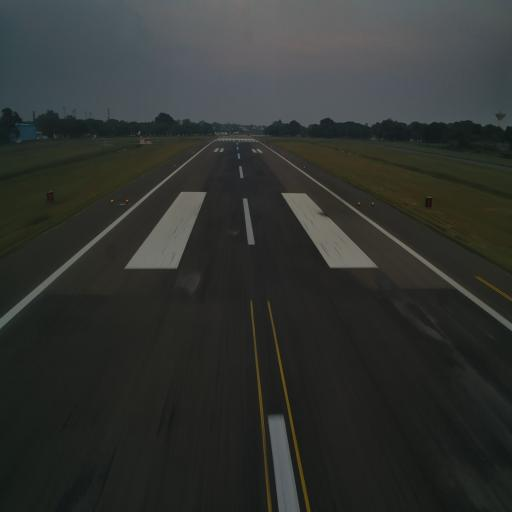on: (108, 196, 114, 208), (370, 199, 375, 208), (124, 198, 130, 204), (356, 199, 361, 206)
